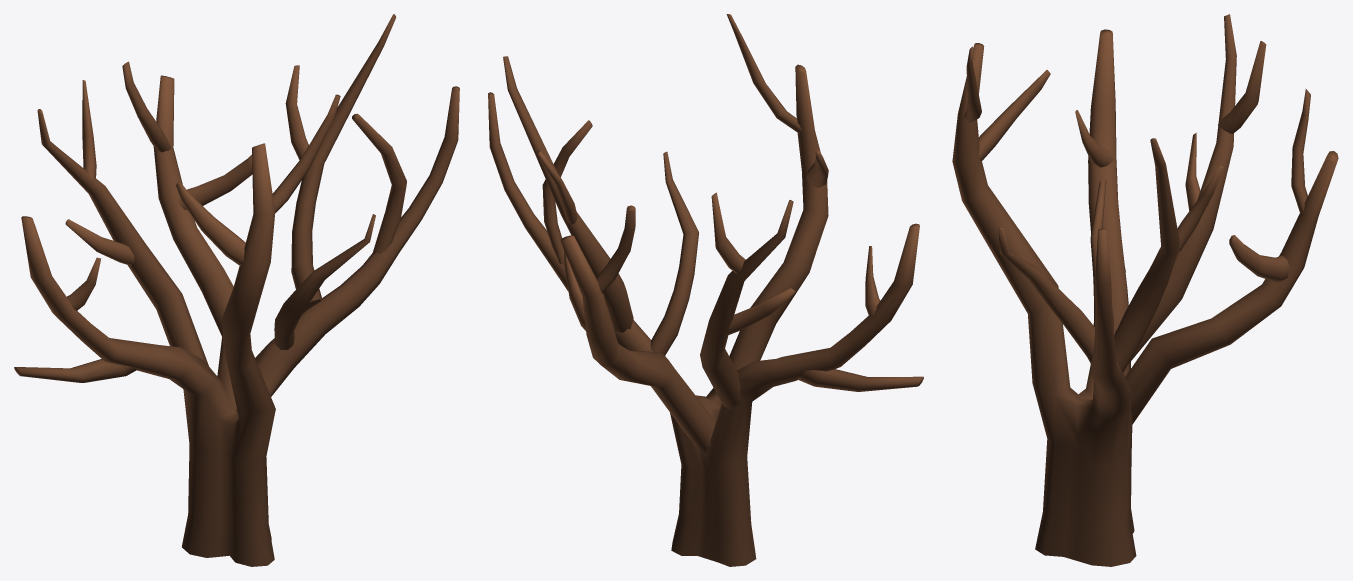
The model's file is Naked_Tree_03.fbx.
3 renders of one model, left to right at view 1: azimuth 30°, elevation 25°; view 2: azimuth 150°, elevation 25°; view 3: azimuth 270°, elevation 25°, orthographic. The views are drawn at different scales.
Parts seen in each view (by area): view 1: Naked_Tree_03; view 2: Naked_Tree_03; view 3: Naked_Tree_03.
Part boxes in pixels (bbox=[...]): Naked_Tree_03: bbox=[14, 14, 459, 566]; Naked_Tree_03: bbox=[488, 14, 923, 566]; Naked_Tree_03: bbox=[952, 14, 1338, 566].
Size of the model in its own units: 628 by 659 by 440.
